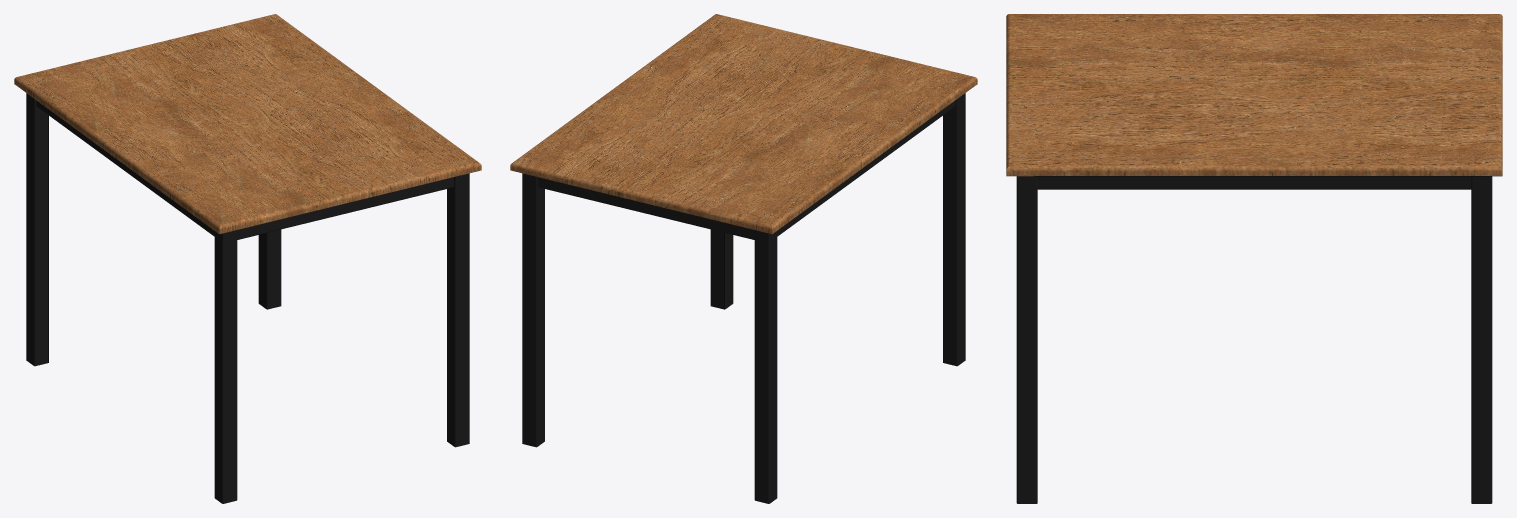
The model's file is Table_IndoorShort.glb.
The picture shows the model from 3 angles, left to right: view 1: azimuth 30°, elevation 25°; view 2: azimuth 150°, elevation 25°; view 3: azimuth 270°, elevation 25°; orthographic projection. The views are drawn at different scales.
Parts seen in each view (by area): view 1: Table.001; view 2: Table.001; view 3: Table.001.
Boxes of the visible parts, x1,y1,x2,y2 form: Table.001: [14, 14, 481, 503]; Table.001: [510, 14, 977, 503]; Table.001: [1006, 14, 1502, 503].
Size of the model in its own units: 2.81 by 2.89 by 3.82.
1 material, 1 textured.
